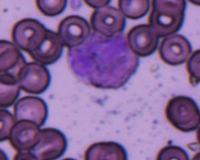E: (68, 32, 138, 88)
